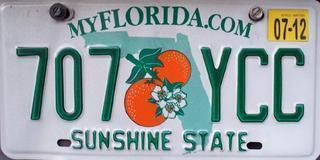placa de veiculo: (7, 2, 312, 157)
